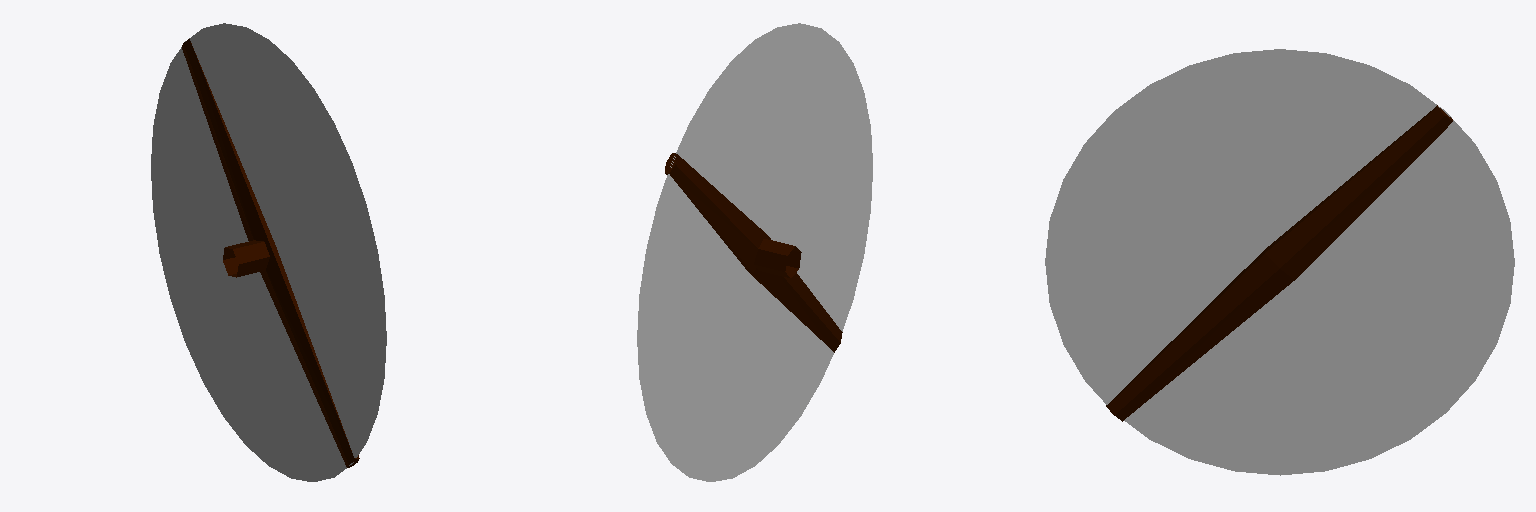
File: sc_prop.obj
3 views of the same model, side by side, from view 1: azimuth 30°, elevation 25°; view 2: azimuth 150°, elevation 25°; view 3: azimuth 270°, elevation 25° (orthographic).
Parts seen in each view (by area): view 1: Prop_Circle.001; view 2: Prop_Circle.001; view 3: Prop_Circle.001.
Part boxes in pixels (x1,y1,x2,y2): Prop_Circle.001: (151,23,386,481); Prop_Circle.001: (637,23,872,481); Prop_Circle.001: (1045,49,1514,475).
Bounding box in the file's own units: 0.3295 × 2.64 × 2.64.